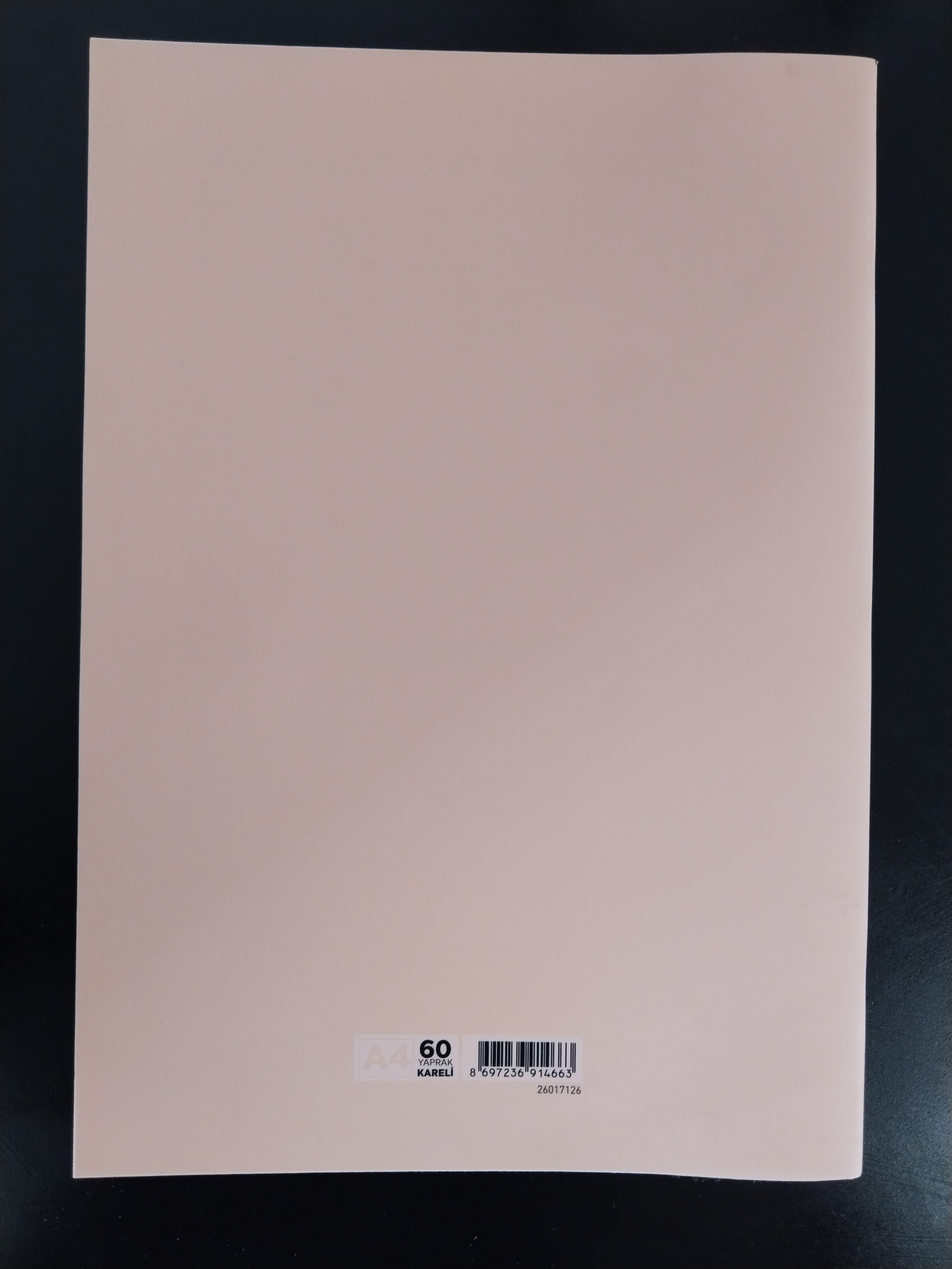60_sayfa_gipta_defter: (86, 44, 884, 1184)
